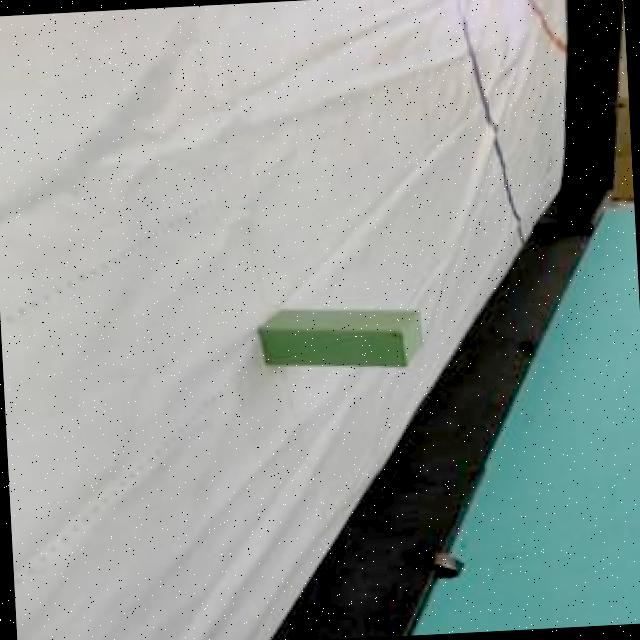greenbox: (253, 303, 424, 378)
